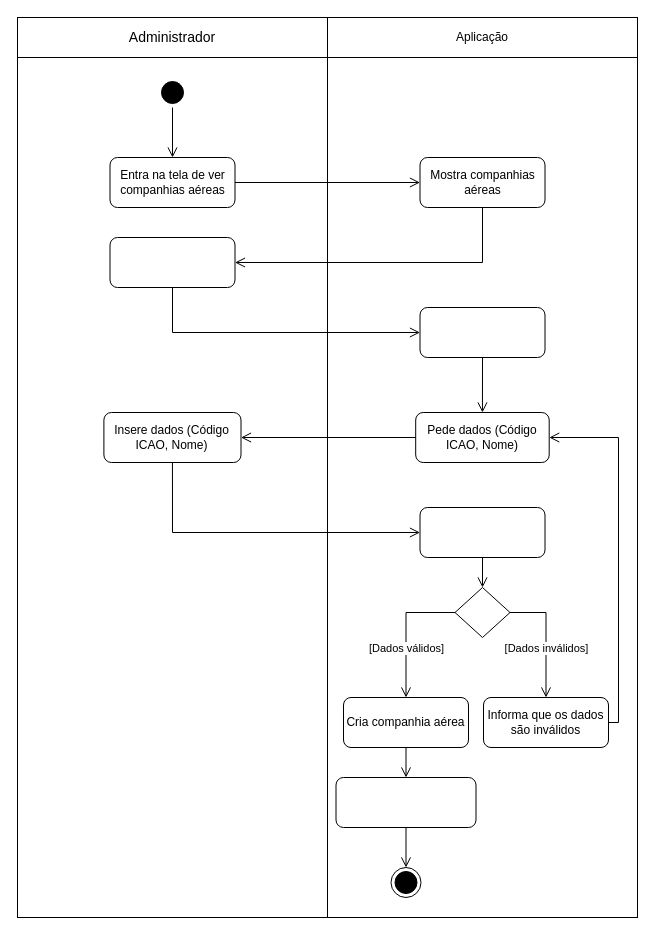
Some shapes in this 655 by 935 pixel diagram are drawn without their labels. The centre of each missing label's shape, as x and y in pixels:
Abre tela de criar companhia aérea: (x=482, y=332)
Escolhe criar companhia aérea: (x=172, y=262)
Informa que a companhia aérea foi criada com sucesso: (x=405, y=802)
Valida dados: (x=482, y=532)
